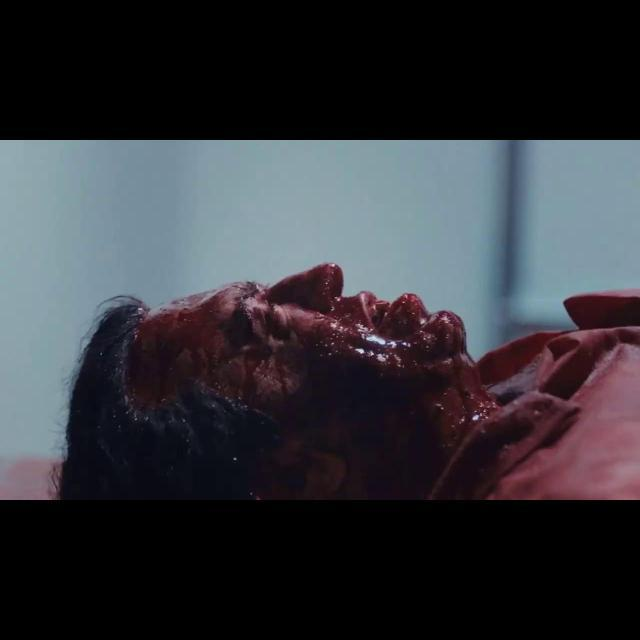blood: (128, 263, 500, 498)
